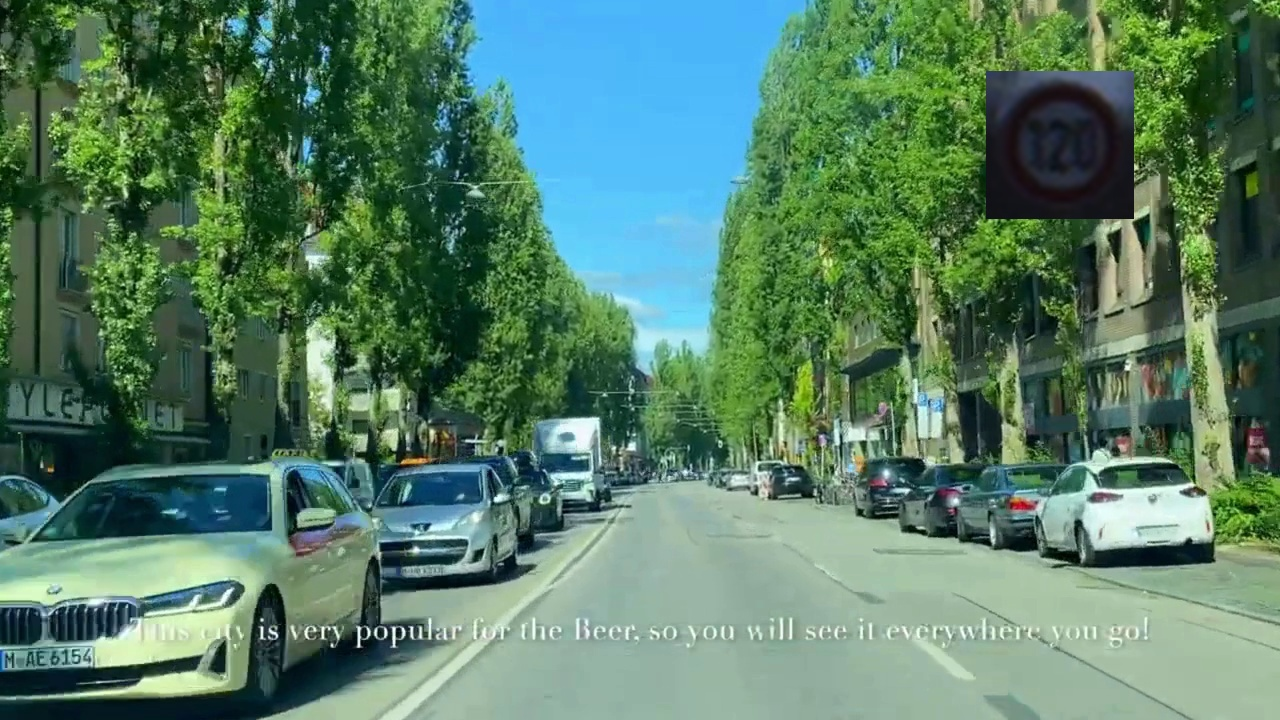Speed 120: (986, 71, 1134, 219)
